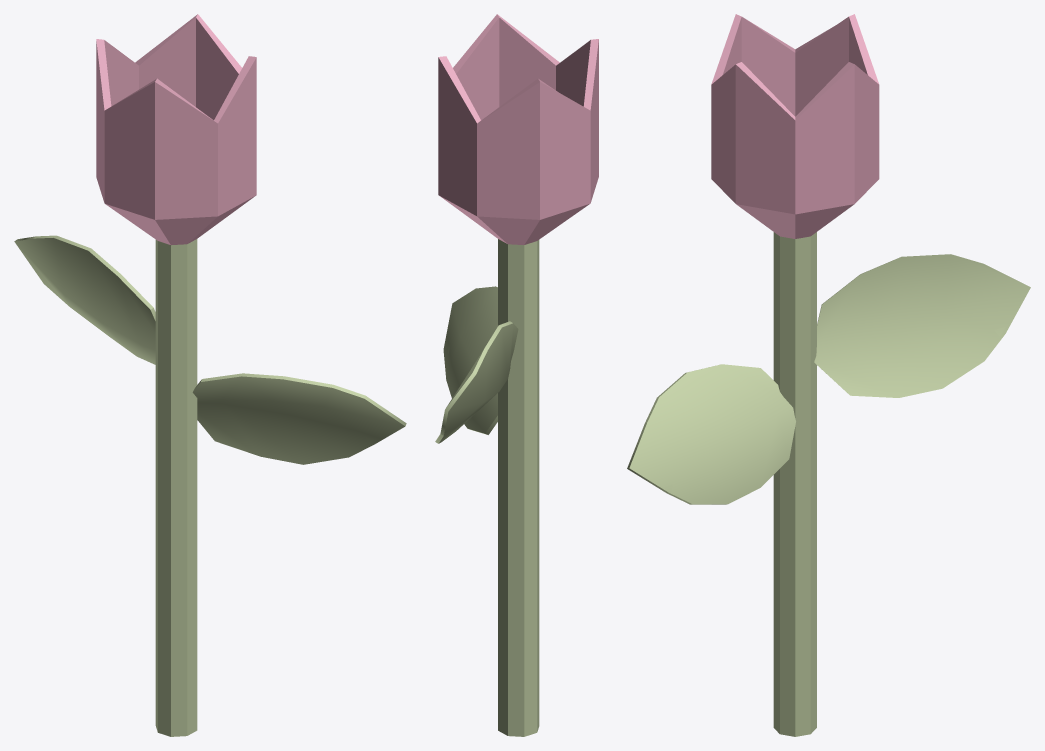
File: Flower.fbx
3 views of the same model, side by side, from view 1: azimuth 30°, elevation 25°; view 2: azimuth 150°, elevation 25°; view 3: azimuth 270°, elevation 25° (orthographic).
Parts seen in each view (by area): view 1: Flower, Leaf2, Leaf1; view 2: Flower, Leaf2, Leaf1; view 3: Flower, Leaf1, Leaf2.
Part boxes in pixels (x1,y1,x2,y2): Flower: (96,14,256,736); Leaf2: (192,373,406,464); Leaf1: (14,235,155,364); Flower: (438,14,598,736); Leaf2: (443,286,497,434); Leaf1: (435,321,518,443); Flower: (711,14,879,736); Leaf1: (814,254,1030,397); Leaf2: (627,364,795,504).
Bounding box in the file's own units: 1.28 × 3.77 × 2.01.
